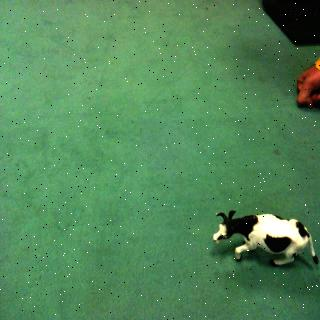cow: (207, 205, 320, 273)
